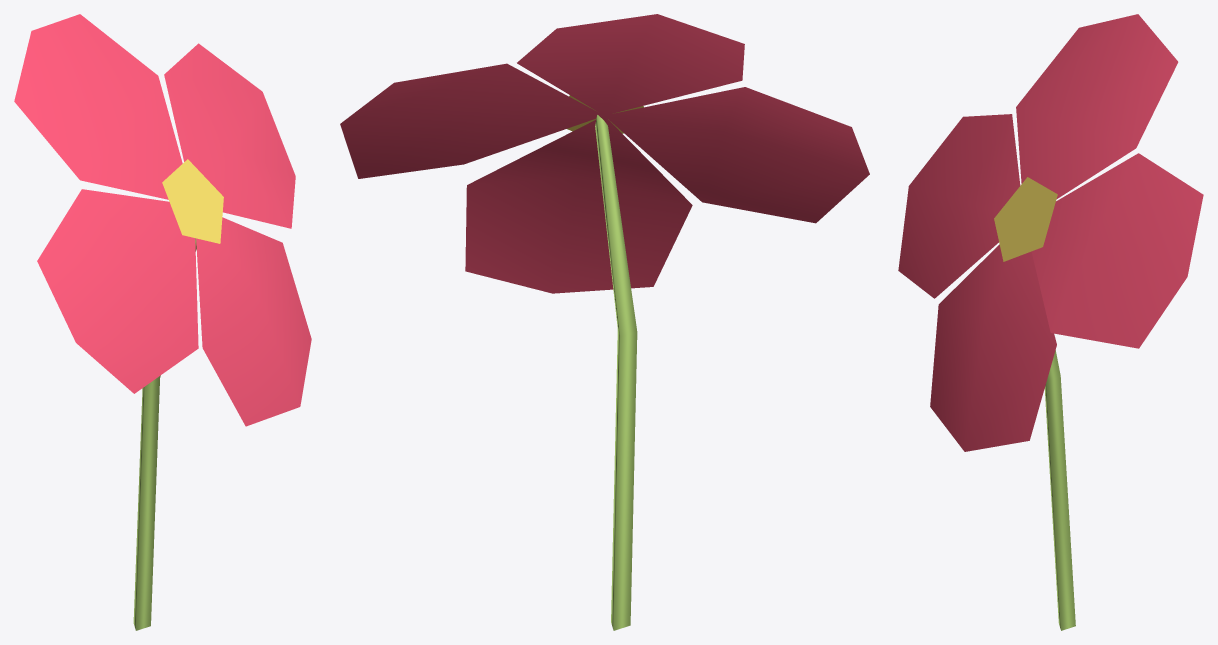
The model's file is flower4.fbx.
3 views of the same model, side by side, from view 1: azimuth 30°, elevation 25°; view 2: azimuth 150°, elevation 25°; view 3: azimuth 270°, elevation 25° (orthographic). The views are drawn at different scales.
Parts seen in each view (by area): view 1: Flower_c_TwoS_06; view 2: Flower_c_TwoS_06; view 3: Flower_c_TwoS_06.
Boxes of the visible parts, box(x1,y1,x2,y2) form: Flower_c_TwoS_06: box(14, 14, 311, 630); Flower_c_TwoS_06: box(340, 14, 869, 630); Flower_c_TwoS_06: box(898, 14, 1203, 630).
Bounding box in the file's own units: 19.92 × 25.84 × 41.63.
Materials: 1 (1 with a texture image).
